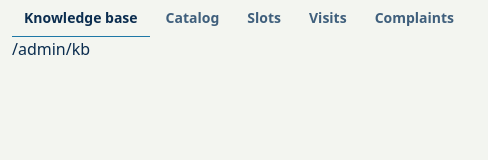
AdminNav › B5: clicking a tab navigates there and moves the marker
The width and height of the screenshot is (488, 160).
Click the link with test id "admin-nav-complaints": x=414, y=18 [375,8,454,27]
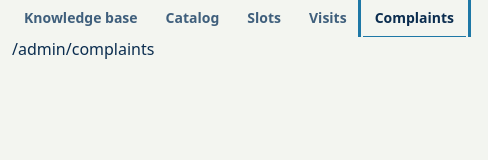
Check: the text with test id "current-path" reads "/admin/complaints", box [12,38,154,60]
